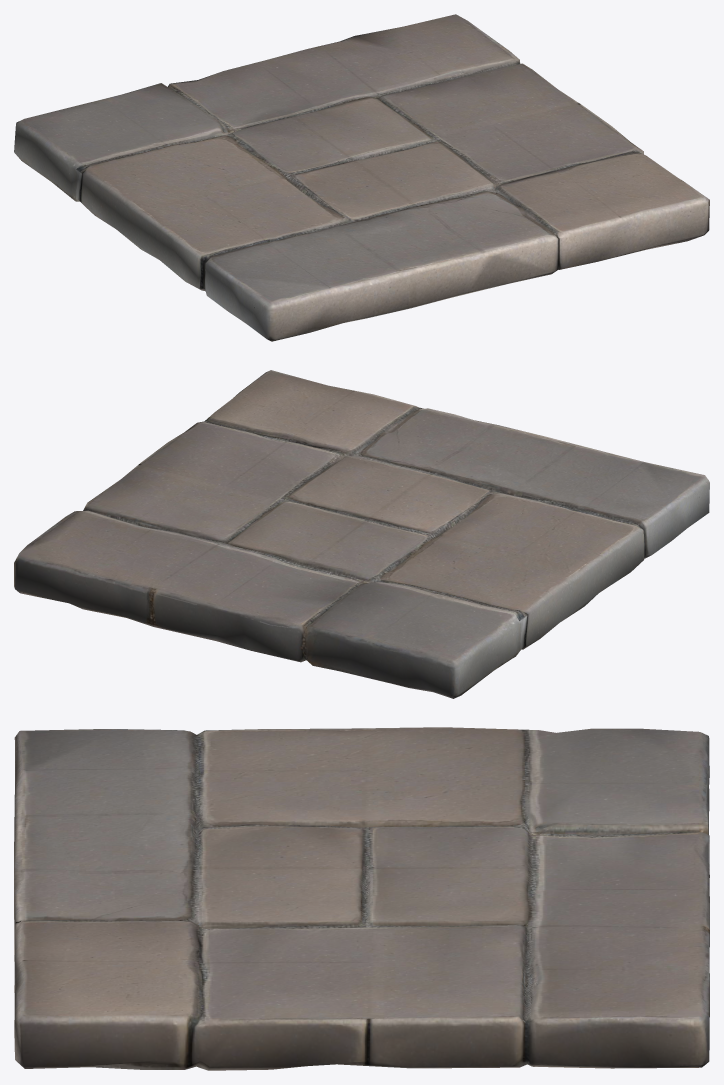
3 renders of one model, top to bottom at view 1: azimuth 30°, elevation 25°; view 2: azimuth 150°, elevation 25°; view 3: azimuth 270°, elevation 25°, orthographic. The views are drawn at different scales.
Visible parts, largest first — view 1: Mesh1.0; view 2: Mesh1.0; view 3: Mesh1.0.
Part boxes in pixels (x1,y1,x2,y2): Mesh1.0: (14,14,709,341); Mesh1.0: (14,370,709,698); Mesh1.0: (14,727,709,1070).
Size of the model in its own units: 200 by 18.04 by 200.
1 material, 1 textured.
